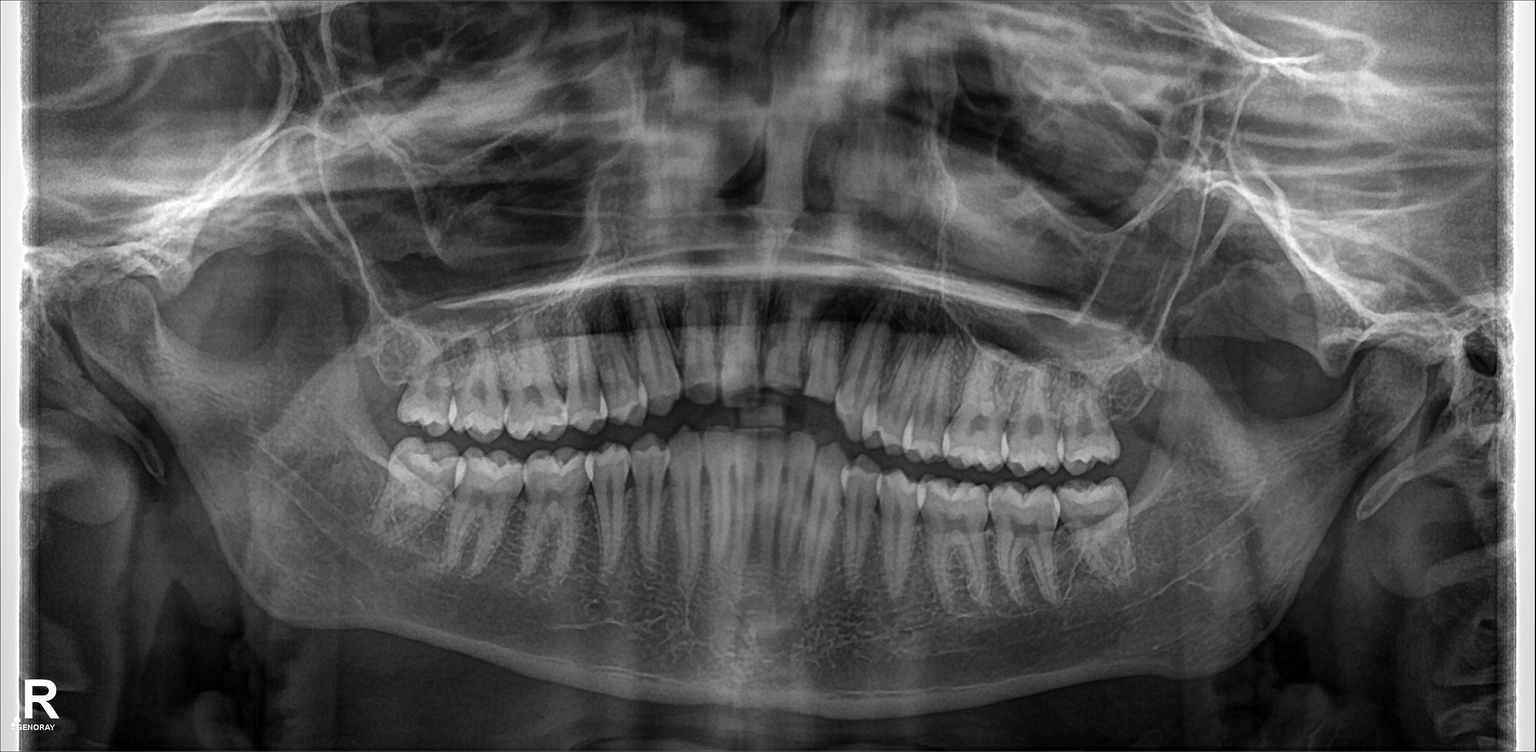Impacted Third Molar: (372, 450, 462, 542)
Missing Tooth: (356, 335, 407, 434), (1112, 372, 1162, 447)
